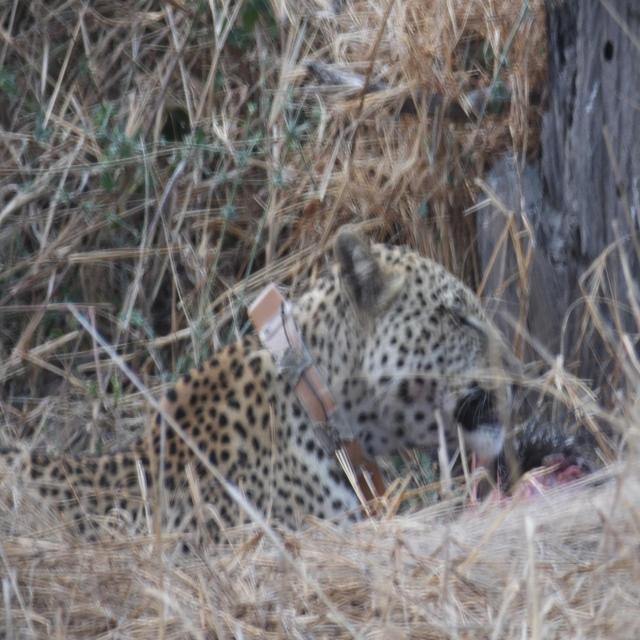Leopard: (0, 218, 527, 565)
